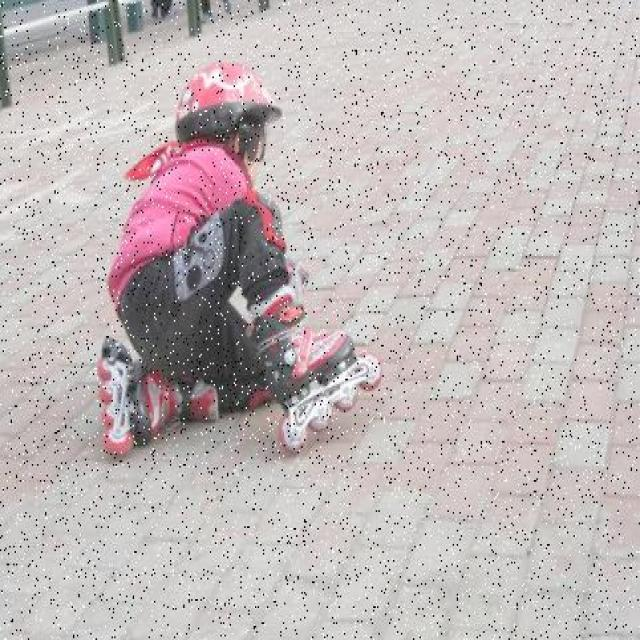fall: (92, 71, 356, 441)
